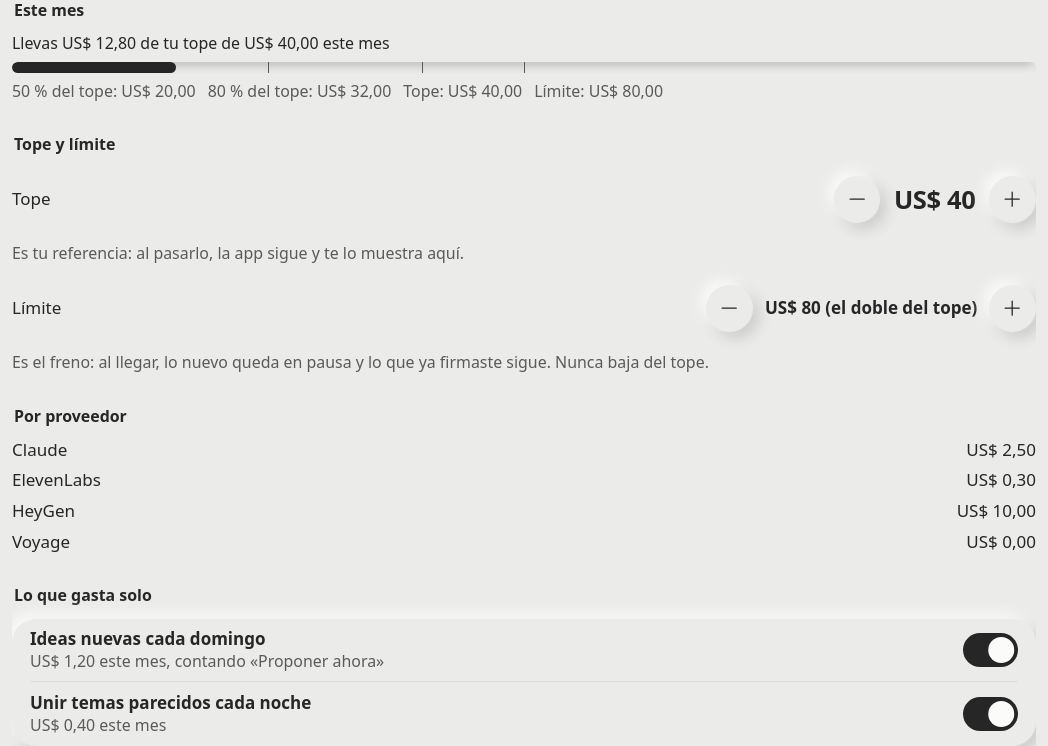
Test: PantallaDePresupuesto › undoes only the switch when its save fails, keeping the cap she moved meanwhile and its error
This screenshot has width=1048, height=746.
Click the switch named "Ideas nuevas cada domingo" in the row of "Ideas nuevas cada domingo".
click(990, 650)  # box left=963, top=633, right=1018, bottom=667
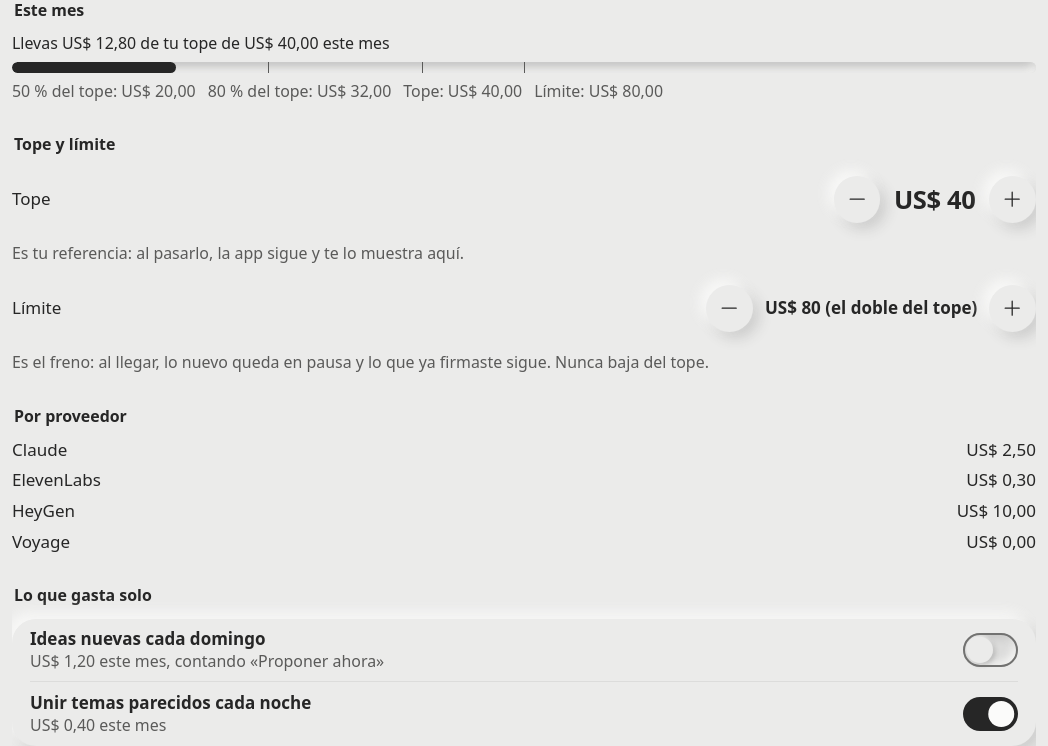
Click the button named "Subir el tope".
click(1013, 200)  # box left=989, top=176, right=1036, bottom=223
Wait 800 ms
(page scrolled)
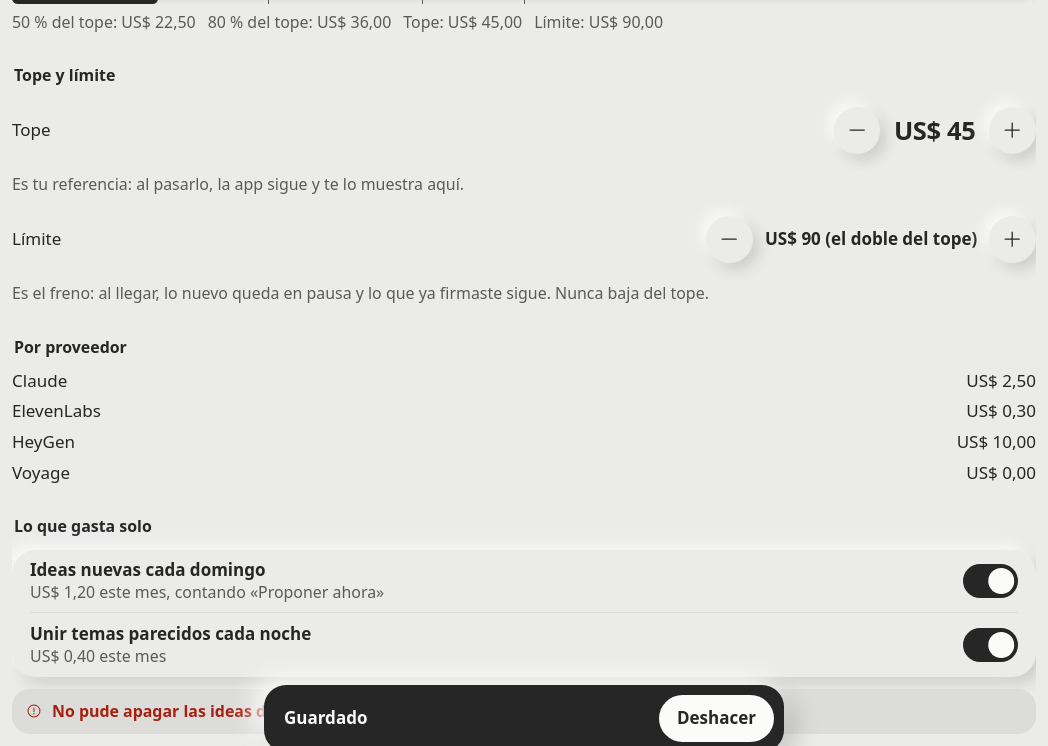
Now the text "US$ 45" is shown, box left=892, top=116, right=977, bottom=145
Now the text "No pude apagar las ideas del domingo." is shown, box left=52, top=700, right=360, bottom=722
